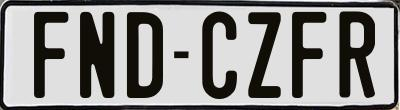C: (201, 11, 240, 101)
D: (127, 12, 169, 102)
F: (32, 9, 71, 100), (292, 11, 329, 99)
N: (77, 12, 115, 98)
R: (339, 10, 377, 97)
Z: (247, 9, 286, 96)
